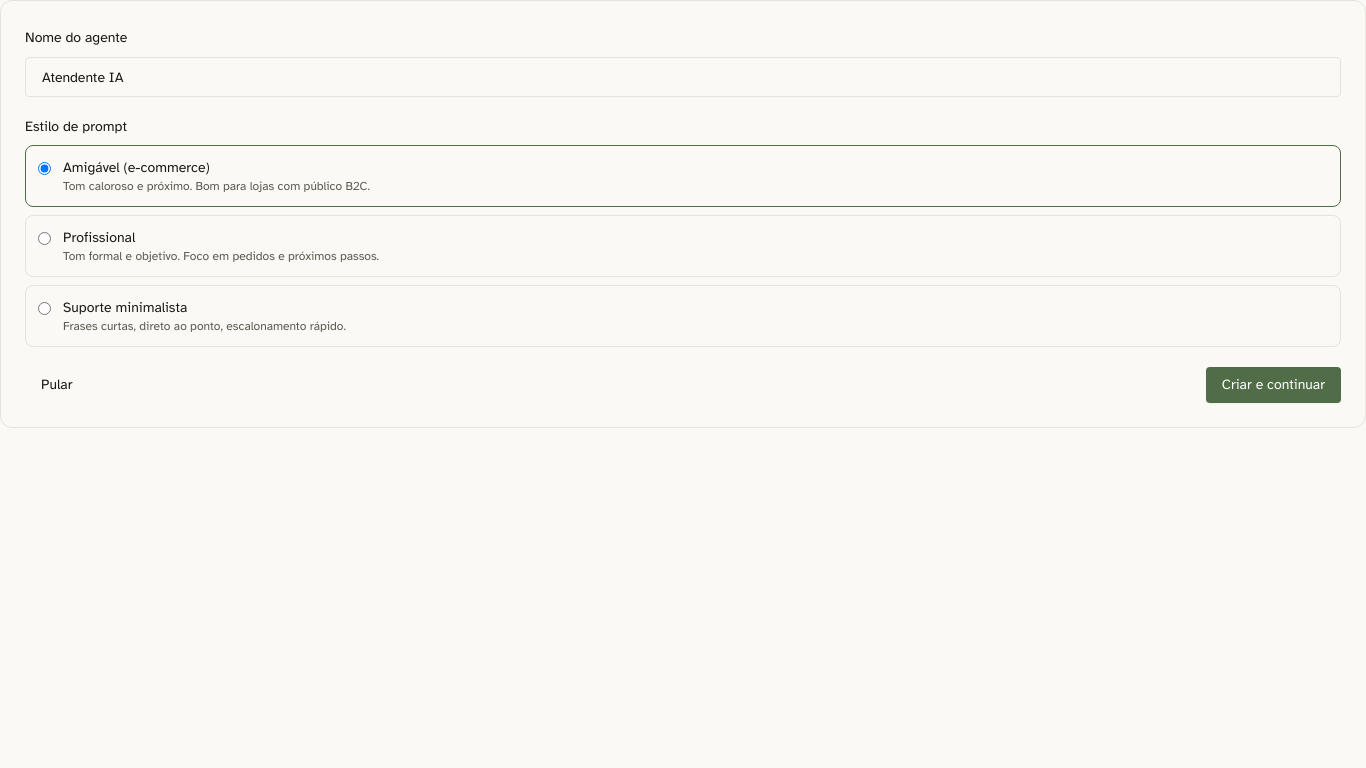
setup de IA: o que a tela diz quando o agente fica rascunho › mostra o aviso, a causa e uma saída — em vez de nada
What coordinates should you click on to do the following:
click the button "Criar e continuar"
I would click on:
 (1273, 385)
Its box is x1=1206 y1=367 x2=1341 y2=403.
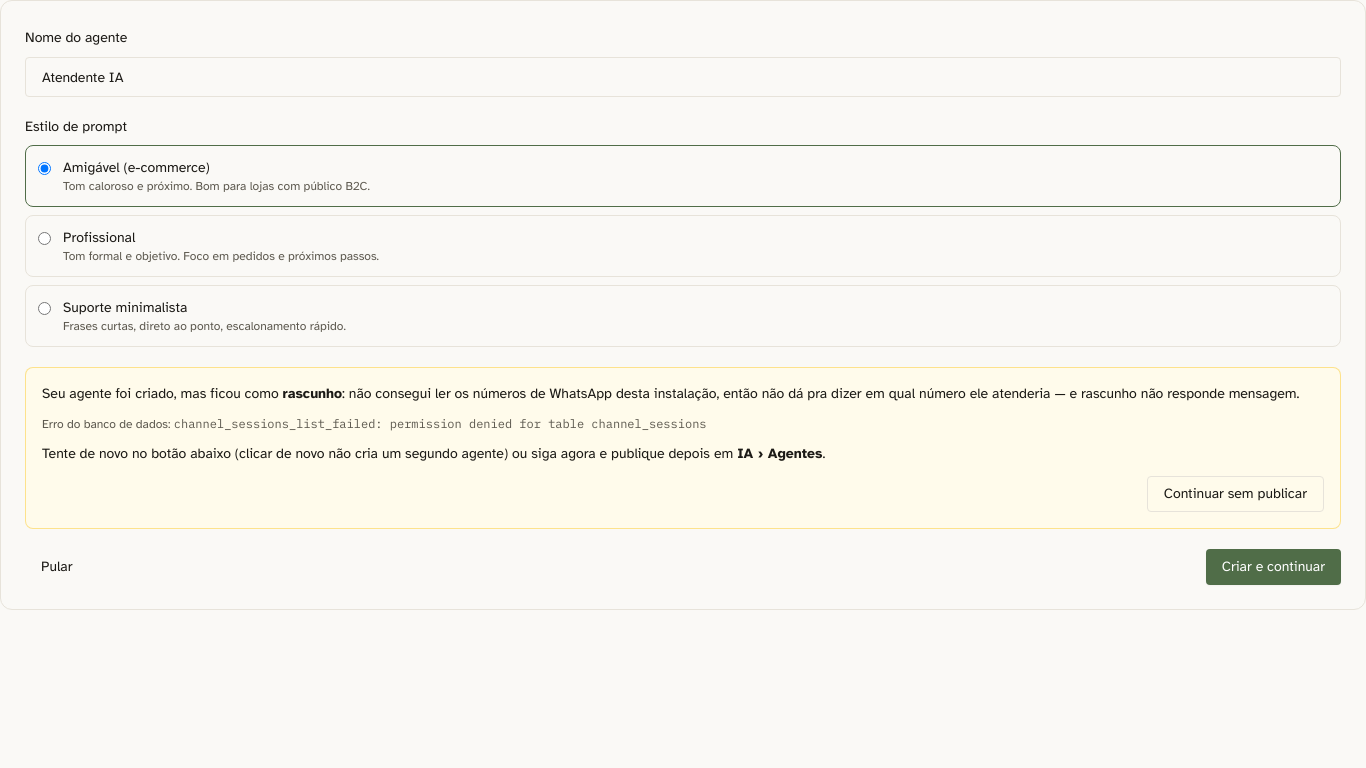
Check: the message shows "rascunho", box x1=283 y1=385 x2=342 y2=402
Check: the message shows "permission denied for table channel_sessions", box x1=174 y1=416 x2=707 y2=431
Check: the button "Continuar sem publicar" is shown, box x1=1147 y1=476 x2=1324 y2=512
